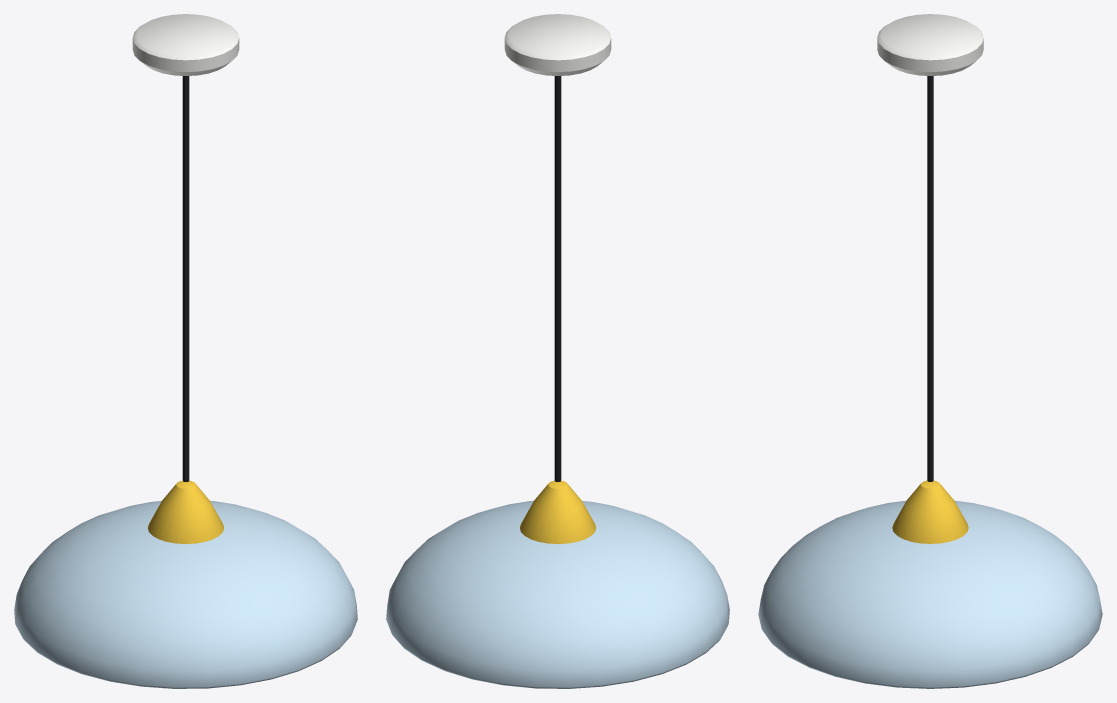
File: pendente_cupula.glb
3 views of the same model, side by side, from view 1: azimuth 30°, elevation 25°; view 2: azimuth 150°, elevation 25°; view 3: azimuth 270°, elevation 25° (orthographic).
Visible parts, largest first — view 1: pendente_cupula; view 2: pendente_cupula; view 3: pendente_cupula.
Part boxes in pixels (x1,y1,x2,y2): pendente_cupula: (14,14,357,688); pendente_cupula: (386,14,729,688); pendente_cupula: (758,14,1102,688).
Size of the model in its own units: 0.42 by 0.784 by 0.42.
Materials: 2 (1 with a texture image).
